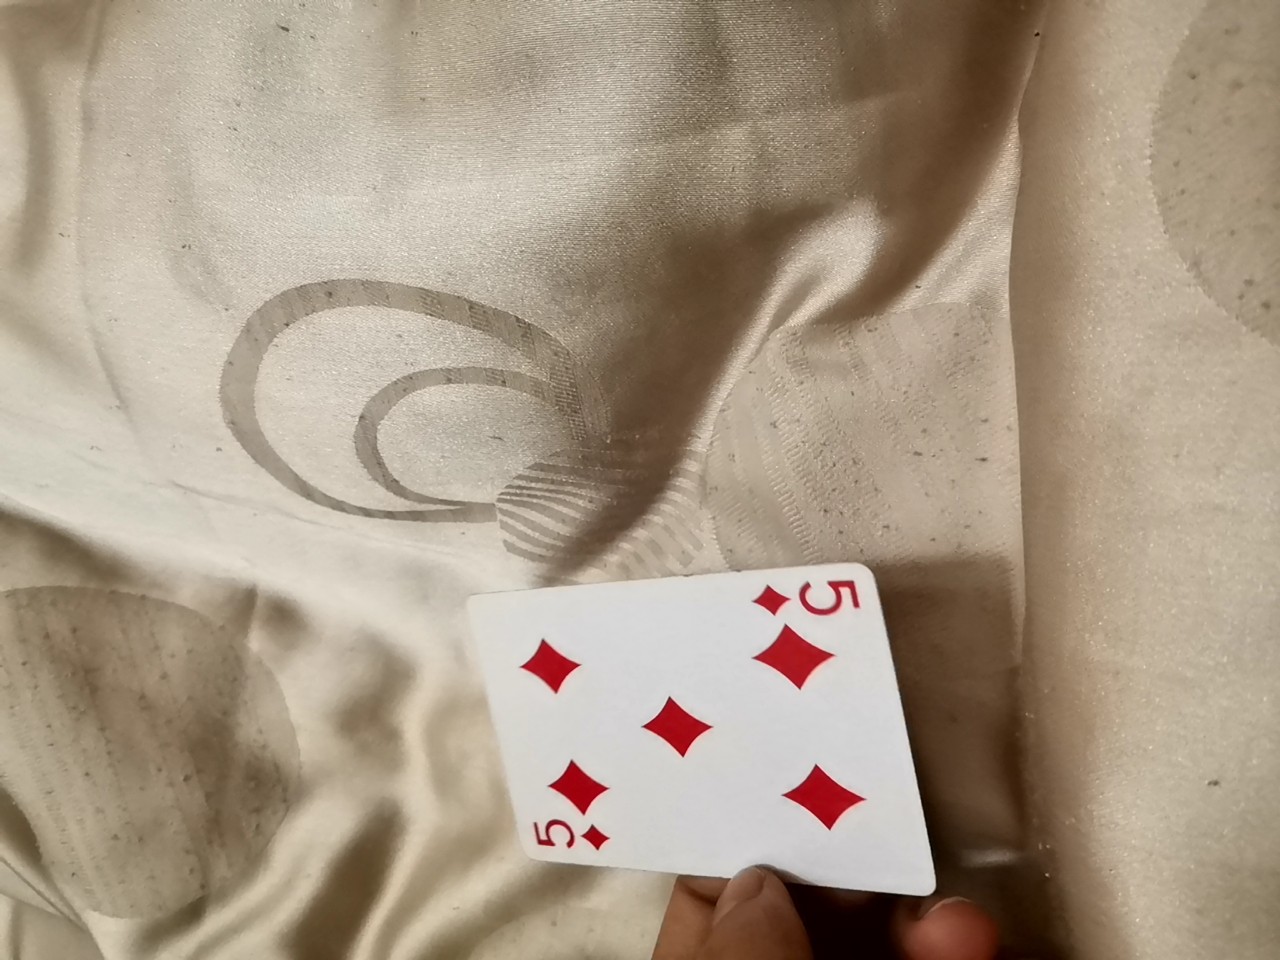fk 5: (477, 553, 992, 905)
